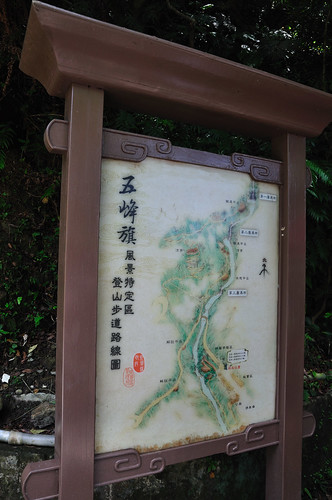wufengciMap: (107, 166, 275, 346)
